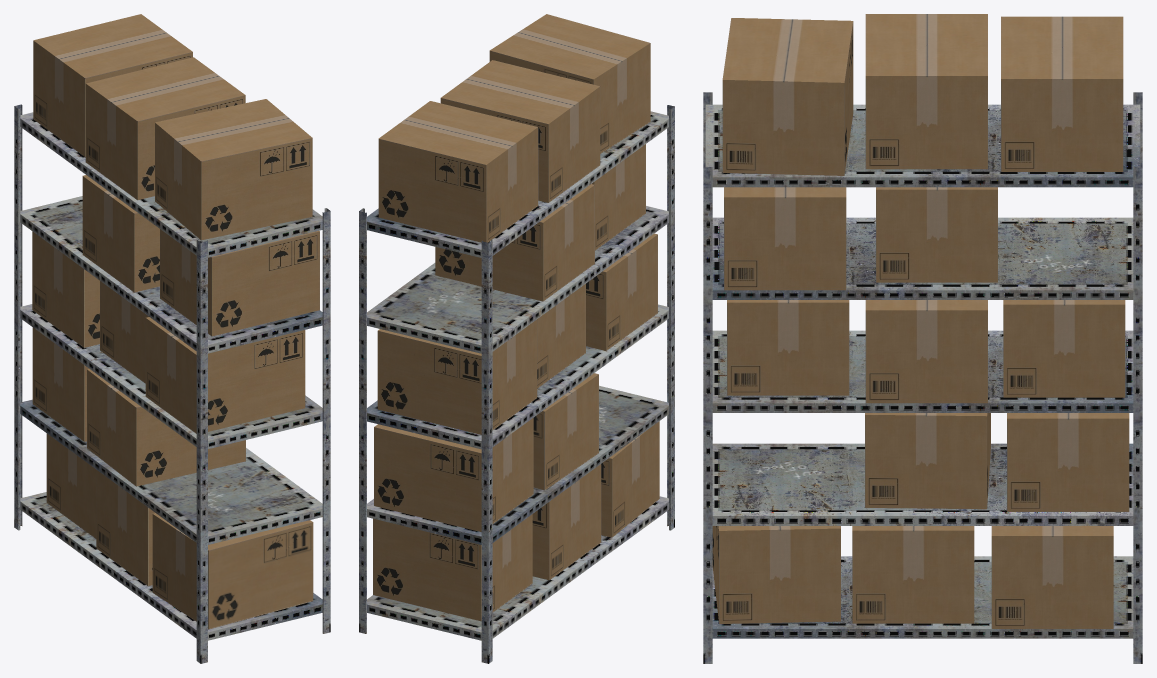
File: etagere.glb
3 views of the same model, side by side, from view 1: azimuth 30°, elevation 25°; view 2: azimuth 150°, elevation 25°; view 3: azimuth 270°, elevation 25° (orthographic). The views are drawn at different scales.
Visible parts, largest first — view 1: Material2 (×3); view 2: Material2 (×3); view 3: Material2 (×3).
Part boxes in pixels (left/top/right/bottom): Material2 (×3): left=14, top=14, right=330, bottom=663; Material2 (×3): left=359, top=14, right=674, bottom=663; Material2 (×3): left=703, top=14, right=1142, bottom=663.
Size of the model in its own units: 0.3688 by 1.33 by 0.9175.
3 materials, 3 textured.
